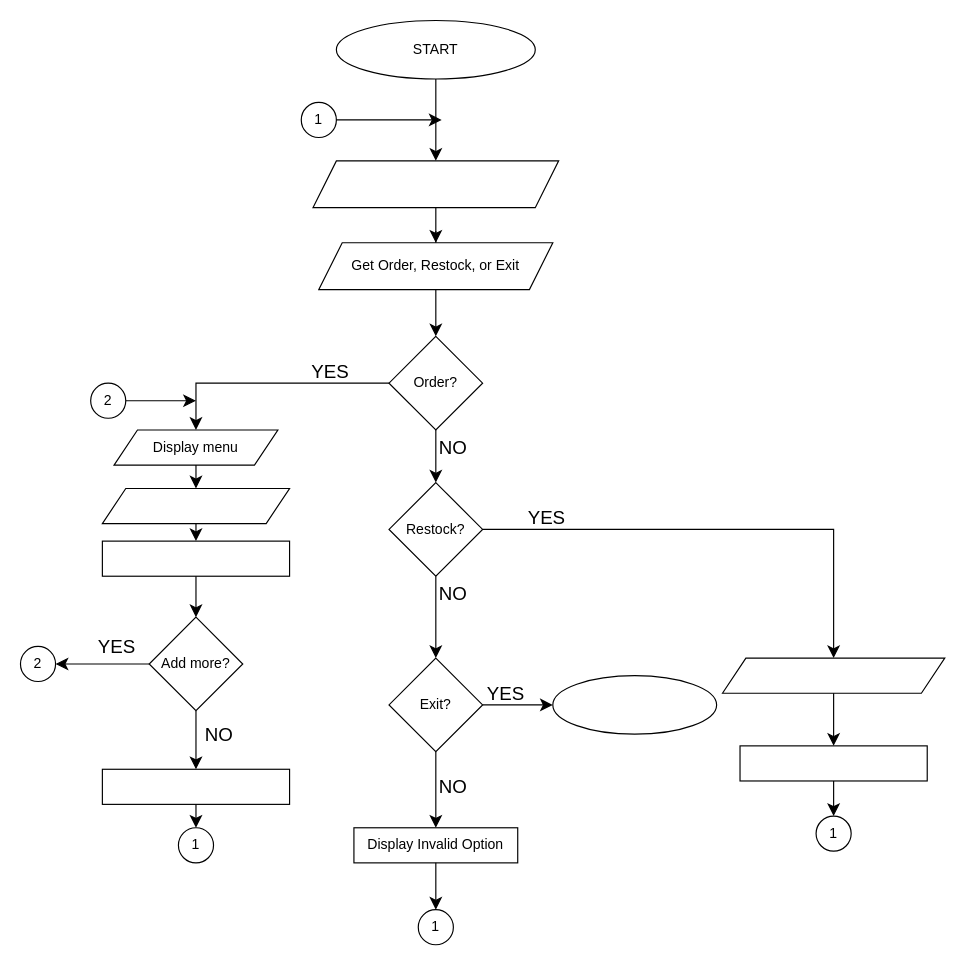
The diagram is 965 pixels wide and 965 high, and some of its shapes have lost their labels. The shapes that lost their labels are listed below. From the top down, each one's box as (x1, y1, x2, y2) in pixels, then its label:
(312, 160, 559, 208): Display Order, Restock, or Exit
(101, 487, 290, 524): Get order
(101, 540, 290, 576): Do operation
(721, 657, 945, 693): Display item stocks
(552, 675, 717, 734): END
(739, 745, 927, 781): Do Operations
(101, 768, 290, 804): Check out and print receipt
